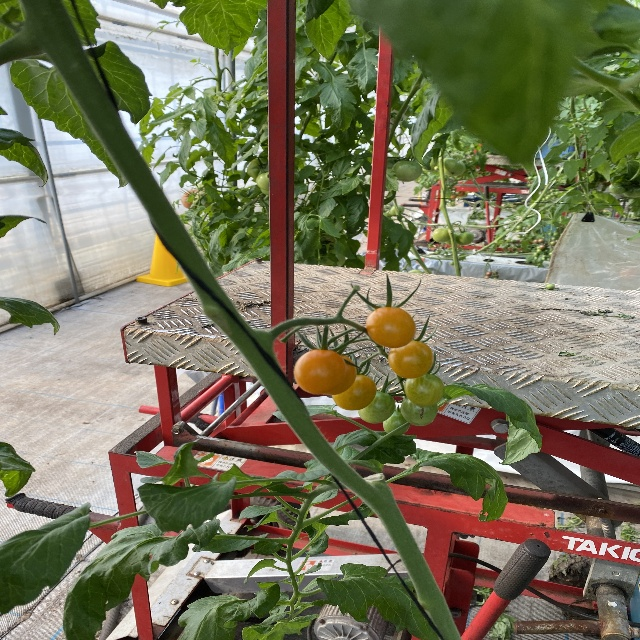l_green: (404, 373, 444, 407), (357, 391, 396, 424), (399, 397, 439, 426), (391, 160, 423, 182), (383, 410, 410, 435)
l_half_ripened: (294, 349, 347, 394), (365, 307, 416, 348), (387, 340, 434, 379), (332, 373, 377, 410), (321, 353, 357, 395)
